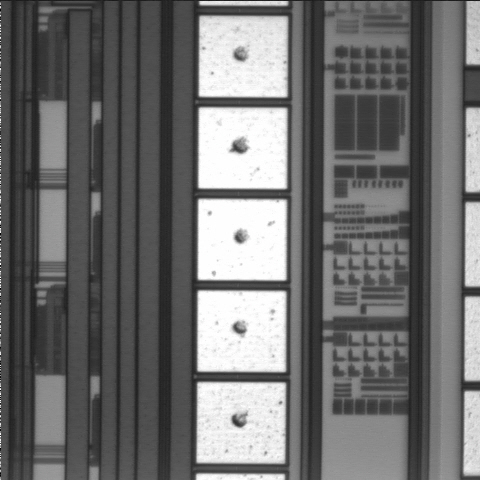pad: (198, 107, 287, 189), (198, 199, 287, 281), (199, 16, 288, 97), (197, 291, 286, 372), (197, 382, 286, 463)
